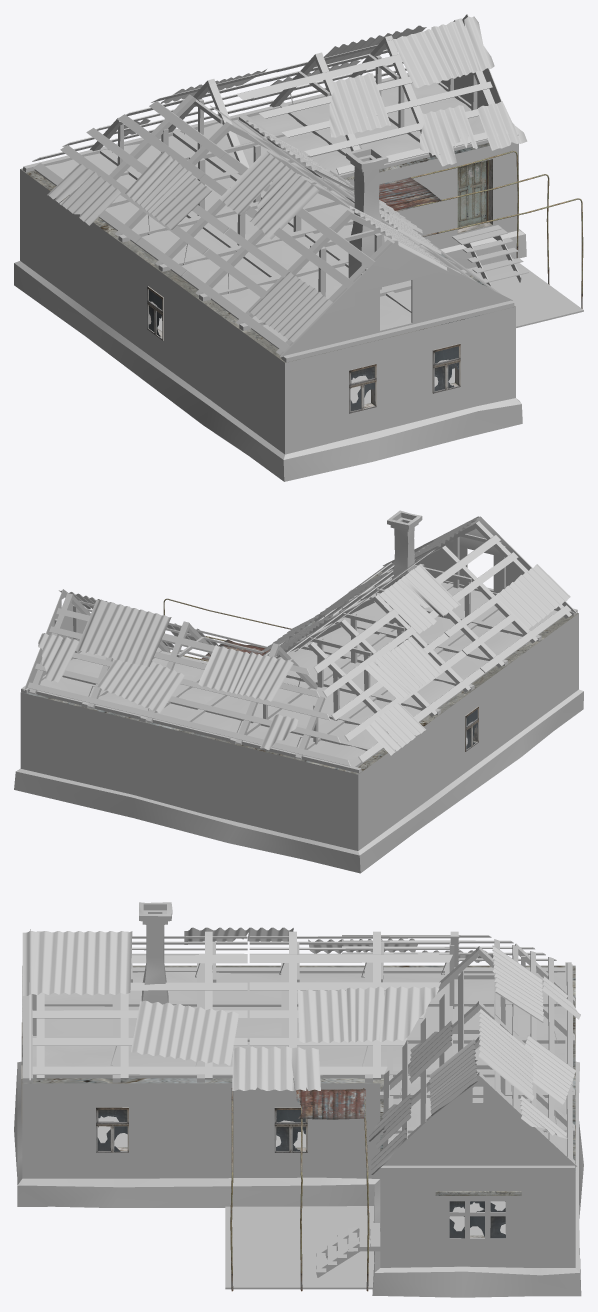
The model's file is Houses_Ready_07_Form2.FBX.
The picture shows the model from 3 angles, top to bottom: view 1: azimuth 30°, elevation 25°; view 2: azimuth 150°, elevation 25°; view 3: azimuth 270°, elevation 25°; orthographic projection. The views are drawn at different scales.
Parts seen in each view (by area): view 1: Attic_03_Form2, Corps_02_7, Roof_07_Form2, Foundation_01_2, Porch_07_2, Chimney_02, Door_03, Windows_10; view 2: Corps_02_7, Attic_03_Form2, Roof_07_Form2, Foundation_01_2, Chimney_02, Porch_07_2; view 3: Attic_03_Form2, Corps_02_7, Roof_07_Form2, Foundation_01_2, Porch_07_2, Chimney_02, Windows_Big_01, Windows_10_2, Windows_10.
Part boxes in pixels (left/top/right/bottom): Attic_03_Form2: left=23, top=14, right=518, bottom=362; Corps_02_7: left=20, top=142, right=518, bottom=454; Roof_07_Form2: left=47, top=16, right=527, bottom=342; Foundation_01_2: left=14, top=229, right=526, bottom=481; Porch_07_2: left=379, top=151, right=583, bottom=327; Chimney_02: left=346, top=147, right=388, bottom=277; Door_03: left=457, top=160, right=485, bottom=227; Windows_10: left=432, top=343, right=460, bottom=393; Corps_02_7: left=20, top=571, right=578, bottom=850; Attic_03_Form2: left=21, top=516, right=577, bottom=773; Roof_07_Form2: left=38, top=516, right=570, bottom=755; Foundation_01_2: left=14, top=689, right=583, bottom=873; Chimney_02: left=387, top=510, right=422, bottom=626; Porch_07_2: left=163, top=598, right=291, bottom=661; Attic_03_Form2: left=22, top=929, right=577, bottom=1172; Corps_02_7: left=22, top=965, right=575, bottom=1267; Roof_07_Form2: left=22, top=927, right=580, bottom=1174; Foundation_01_2: left=14, top=1061, right=583, bottom=1297; Porch_07_2: left=225, top=1088, right=380, bottom=1291; Chimney_02: left=139, top=902, right=172, bottom=1004; Windows_Big_01: left=440, top=1196, right=514, bottom=1242; Windows_10_2: left=96, top=1107, right=128, bottom=1152; Windows_10: left=274, top=1107, right=307, bottom=1152.
Bounding box in the file's own units: 1479 × 1662 × 816.
